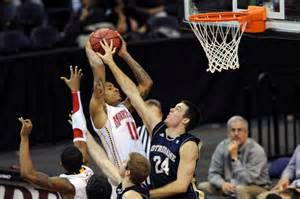basketball: (90, 28, 118, 57)
